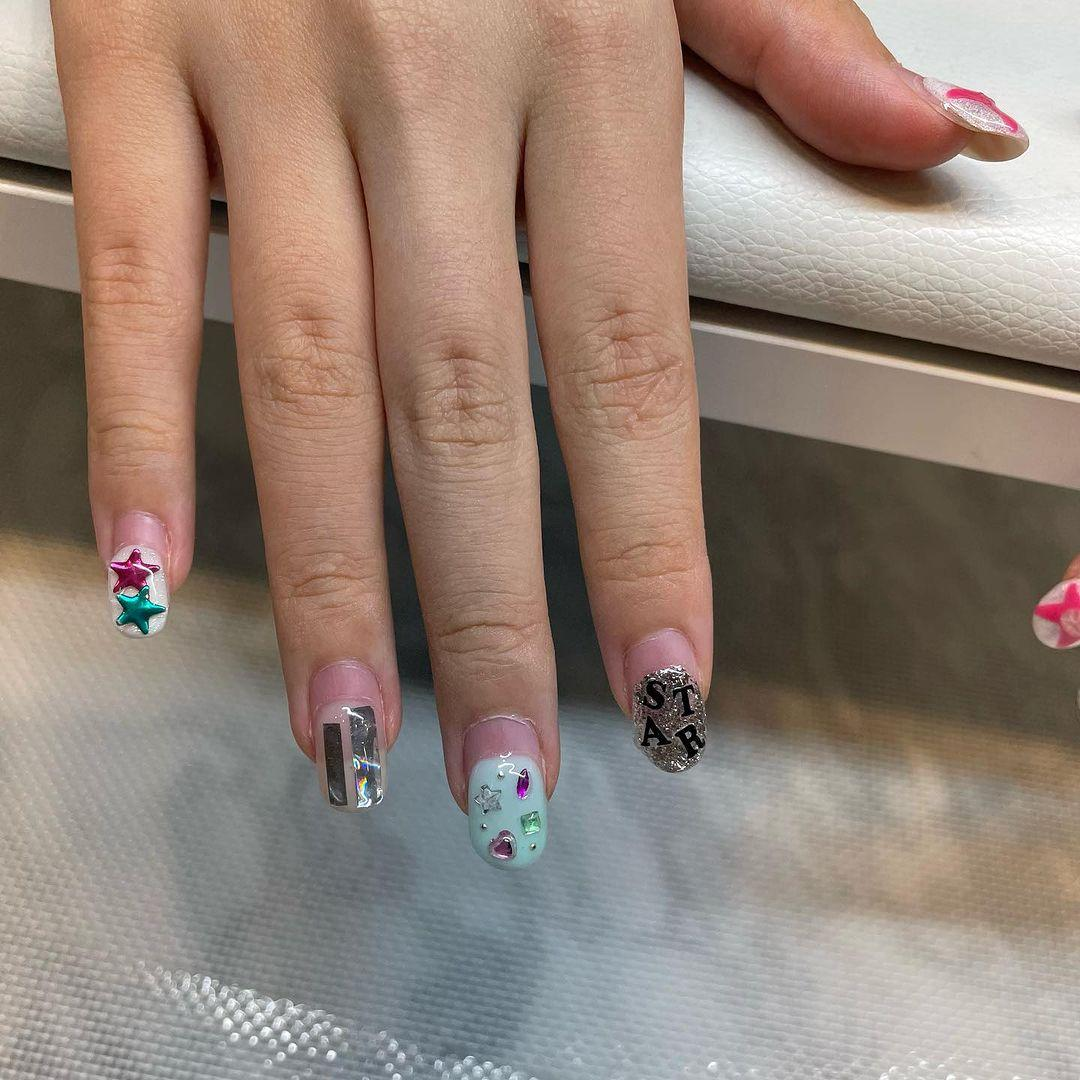nail: (461, 712, 548, 870), (622, 625, 708, 773), (306, 658, 387, 812), (106, 508, 171, 637), (917, 72, 1023, 140), (1031, 577, 1079, 650)
